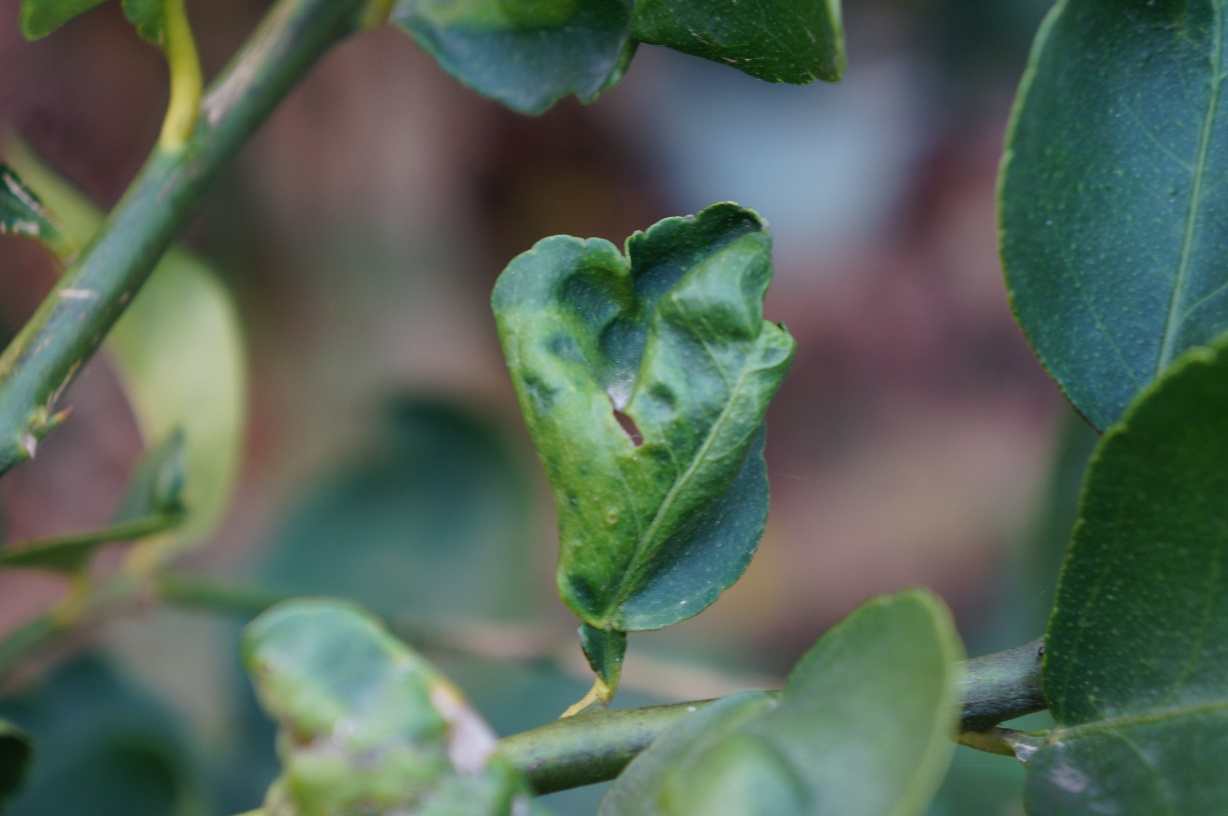damage: (483, 193, 820, 658)
